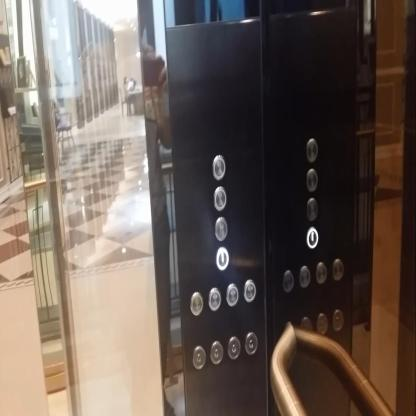1: (215, 245, 229, 271), (306, 225, 318, 249)
2: (214, 184, 226, 211)
M: (213, 216, 228, 242)
blur: (211, 152, 226, 180)
close: (242, 277, 257, 302)
empty: (304, 166, 318, 192), (304, 196, 318, 222), (305, 136, 318, 162), (314, 260, 328, 284), (298, 264, 311, 288), (330, 257, 343, 281), (331, 308, 344, 332), (315, 311, 328, 335), (282, 269, 294, 292)
keyhole: (226, 334, 241, 359), (209, 339, 223, 364), (244, 331, 258, 355), (192, 345, 206, 369)
open: (207, 287, 221, 312), (225, 282, 239, 307)
unknown: (189, 291, 204, 315)
